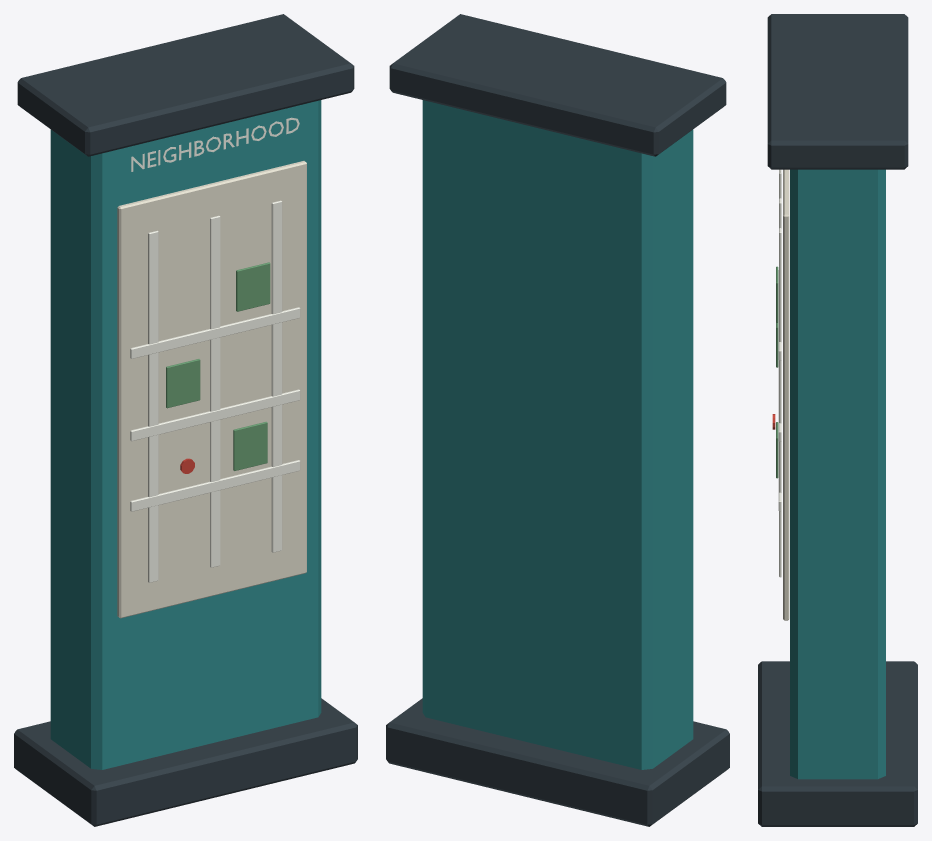
The model's file is Map_Kiosk_Detailed.glb.
The picture shows the model from 3 angles, left to right: view 1: azimuth 30°, elevation 25°; view 2: azimuth 150°, elevation 25°; view 3: azimuth 270°, elevation 25°; orthographic projection.
Visible parts, largest first — view 1: Map_Kiosk_Detailed; view 2: Map_Kiosk_Detailed; view 3: Map_Kiosk_Detailed.
Part boxes in pixels (bbox=[...]): Map_Kiosk_Detailed: bbox=[14, 14, 357, 826]; Map_Kiosk_Detailed: bbox=[386, 14, 729, 826]; Map_Kiosk_Detailed: bbox=[758, 14, 917, 826].
Size of the model in its own units: 0.96 by 2.37 by 0.5.
